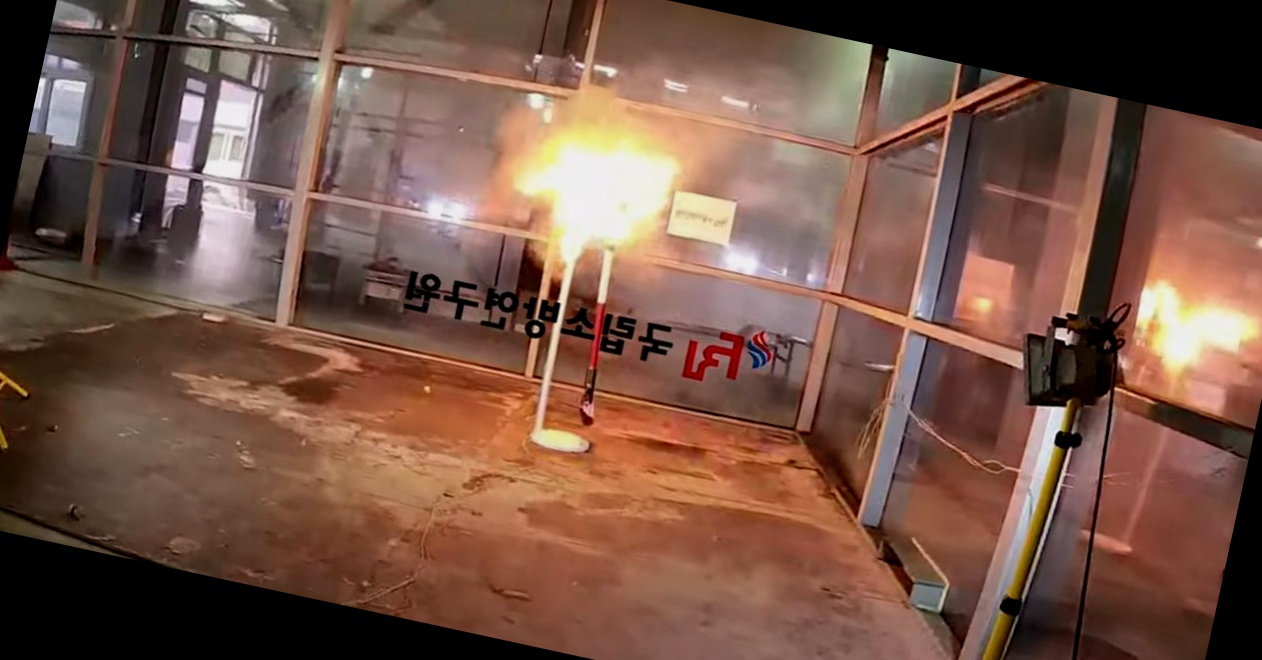fire: (483, 61, 697, 282), (1119, 251, 1262, 408)
